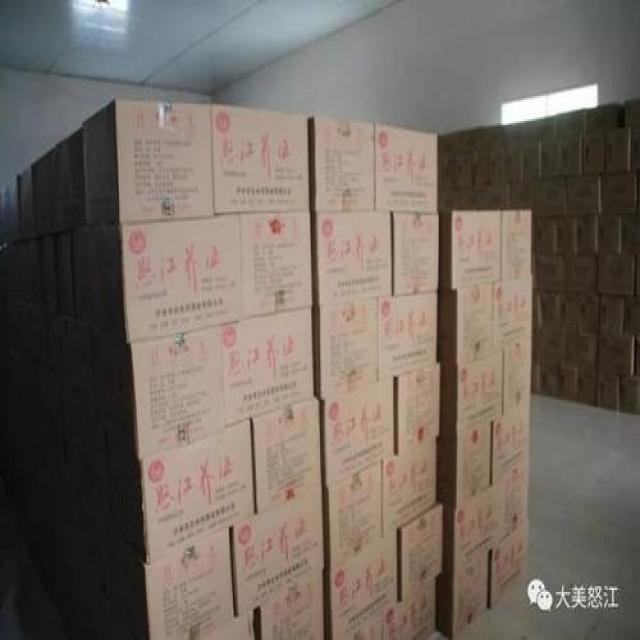box: (108, 419, 253, 563), (91, 215, 243, 340), (95, 327, 225, 461), (82, 98, 212, 223), (110, 523, 234, 640), (230, 486, 324, 617), (221, 308, 315, 427), (212, 104, 310, 215), (320, 377, 394, 488), (252, 398, 321, 513), (239, 211, 312, 317), (324, 534, 396, 638), (312, 213, 392, 306), (312, 298, 379, 398), (323, 463, 383, 571), (310, 117, 375, 211), (443, 479, 504, 575), (376, 123, 438, 213), (383, 438, 436, 540), (379, 290, 438, 379), (440, 352, 502, 434), (255, 569, 324, 640), (45, 308, 97, 402), (436, 421, 492, 507), (440, 211, 500, 290), (436, 554, 489, 640), (397, 504, 443, 602), (394, 361, 440, 457), (438, 283, 493, 361), (393, 211, 439, 294), (55, 127, 86, 231), (492, 519, 529, 605), (383, 580, 436, 640), (494, 275, 534, 352), (493, 404, 530, 486), (32, 148, 59, 236), (503, 340, 531, 419), (13, 302, 46, 369), (502, 209, 532, 281), (503, 463, 530, 538), (73, 225, 92, 321), (202, 609, 253, 640), (56, 229, 74, 315), (19, 238, 42, 304), (0, 175, 20, 248), (599, 254, 635, 294), (599, 334, 634, 375), (602, 173, 636, 213), (567, 175, 600, 215), (41, 234, 58, 311), (564, 254, 598, 292), (564, 332, 598, 369), (19, 165, 35, 240), (605, 127, 630, 173), (532, 329, 563, 365), (535, 179, 566, 215), (462, 125, 502, 152), (599, 294, 626, 334), (585, 104, 625, 131), (0, 244, 19, 300), (474, 150, 504, 185), (443, 154, 472, 188), (584, 129, 605, 175), (538, 254, 564, 290), (540, 290, 562, 331), (524, 115, 557, 142), (559, 292, 581, 332), (541, 138, 562, 177), (356, 611, 383, 640), (599, 217, 621, 252), (580, 292, 599, 332), (562, 135, 581, 175), (577, 215, 596, 254), (557, 110, 585, 136), (598, 373, 618, 409), (539, 217, 558, 254), (506, 144, 524, 183), (524, 140, 540, 183), (558, 215, 576, 252), (622, 377, 640, 413), (621, 217, 639, 252), (509, 186, 534, 209), (625, 296, 640, 334), (579, 369, 596, 402), (541, 365, 559, 396), (439, 131, 461, 156), (0, 300, 12, 344), (561, 367, 577, 400), (502, 123, 522, 144), (631, 127, 640, 171), (626, 100, 640, 127), (531, 363, 540, 392), (534, 290, 540, 327), (636, 336, 640, 375), (439, 158, 443, 188)
